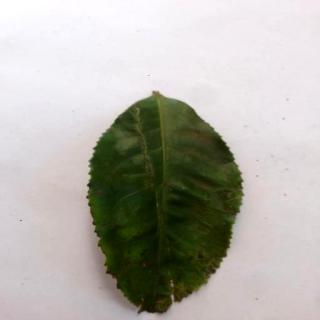Algal Leaf: (87, 92, 246, 316)
